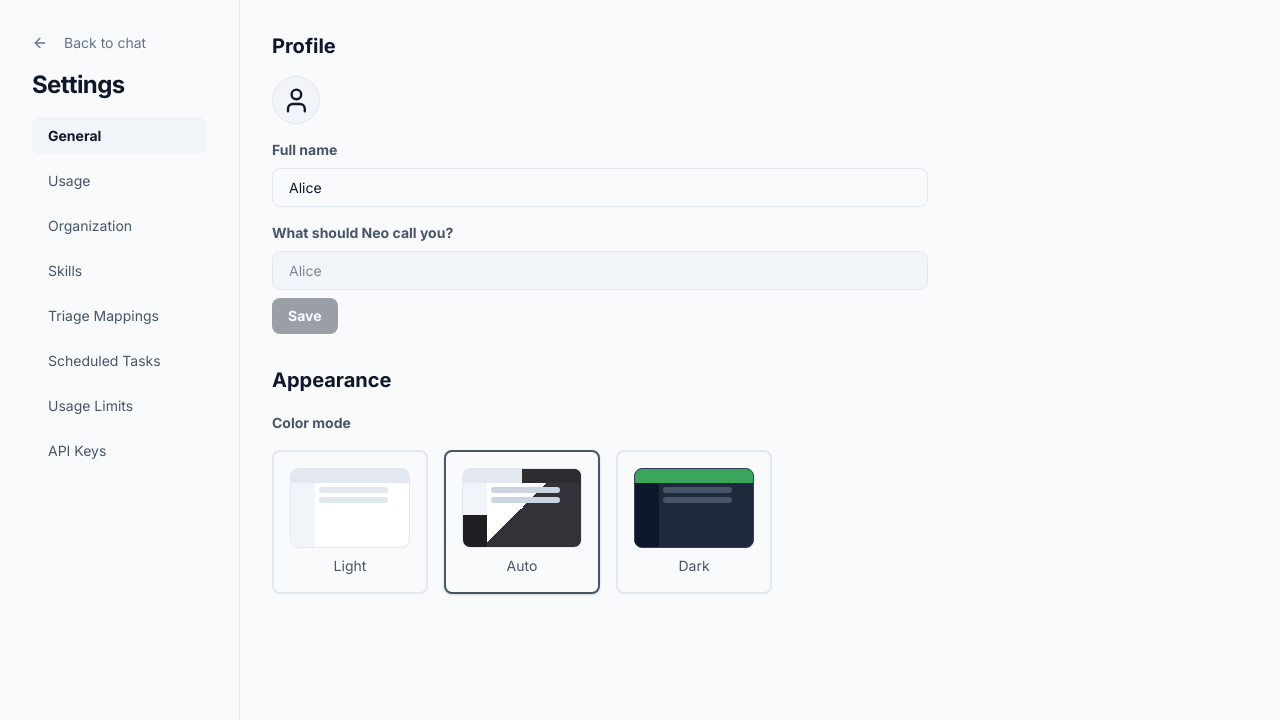
SkillsSection — list view › fetches /api/skills on mount and renders rows
This screenshot has width=1280, height=720.
Click the tab "Skills" at point(120, 270), box [32,252,207,289]
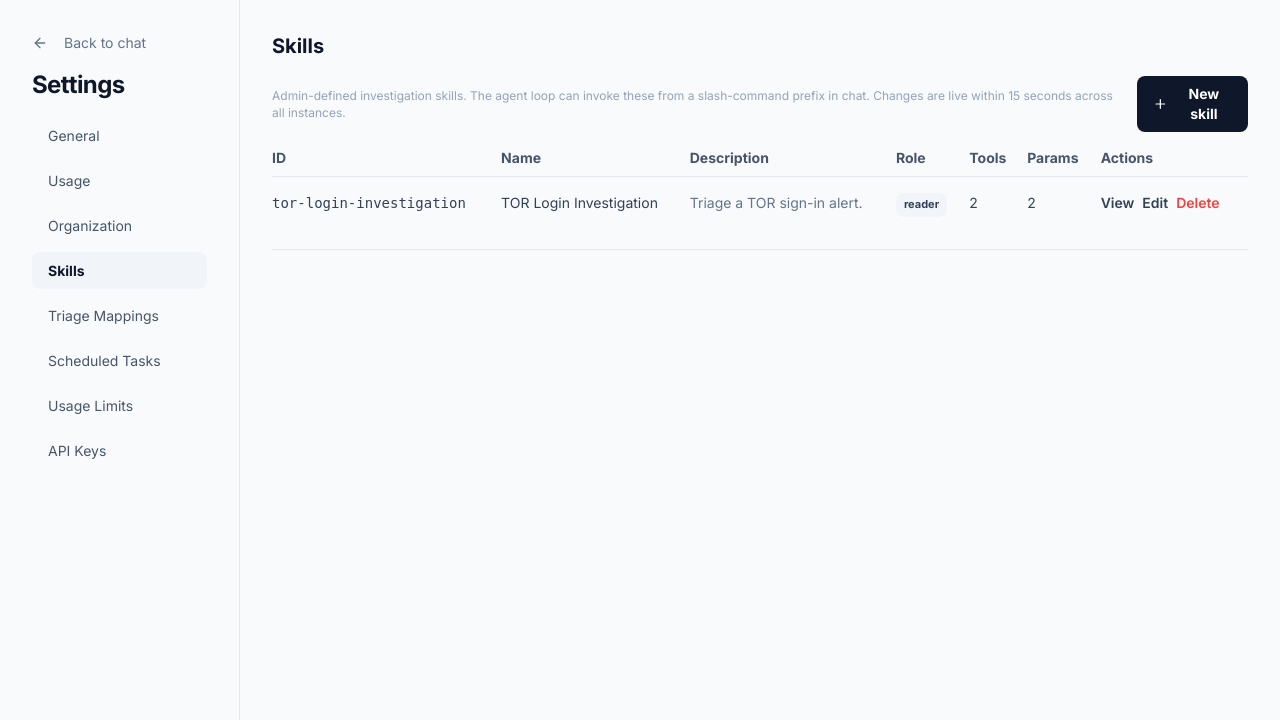
Expected: the text "tor-login-investigation" is shown, [272,176,501,249]
Expected: the text "TOR Login Investigation" is shown, [501,176,690,249]
Expected: the text "Triage a TOR sign-in alert." is shown, [690,193,880,213]
